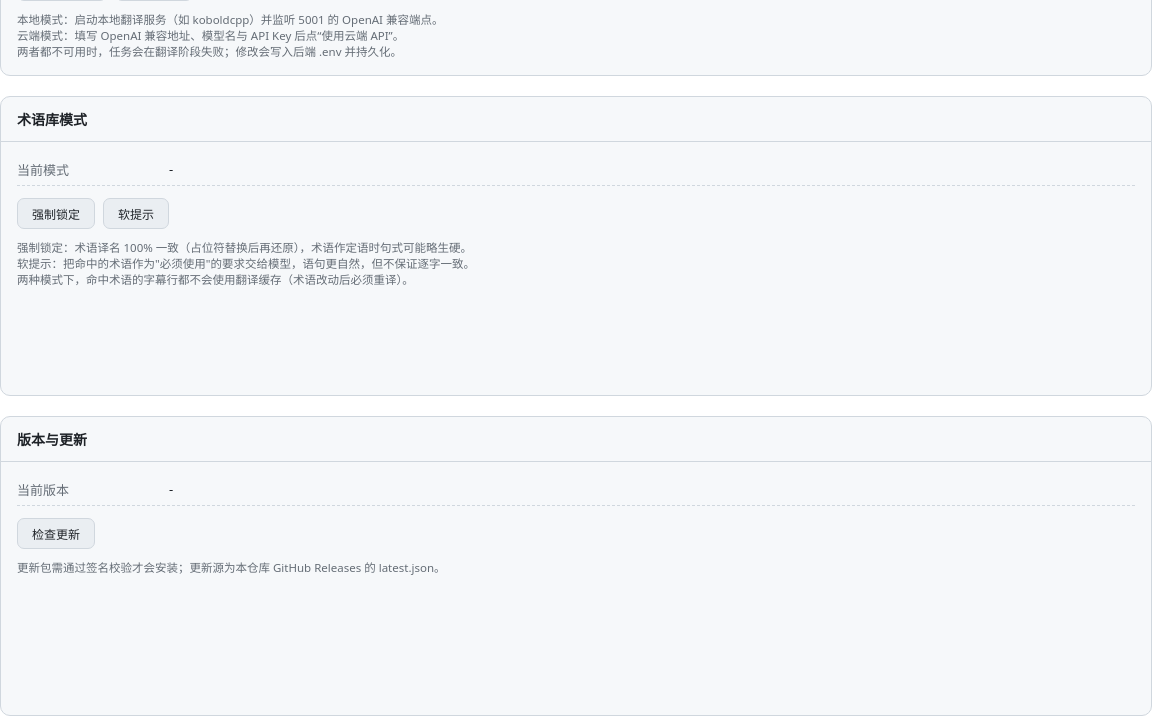
it: SettingsPage 版本与更新 › 有更新时给出新版本与安装按钮
This screenshot has width=1152, height=716.
(page scrolled)
Step 1. Click the button "检查更新" → (56, 534), box [17, 518, 95, 549]
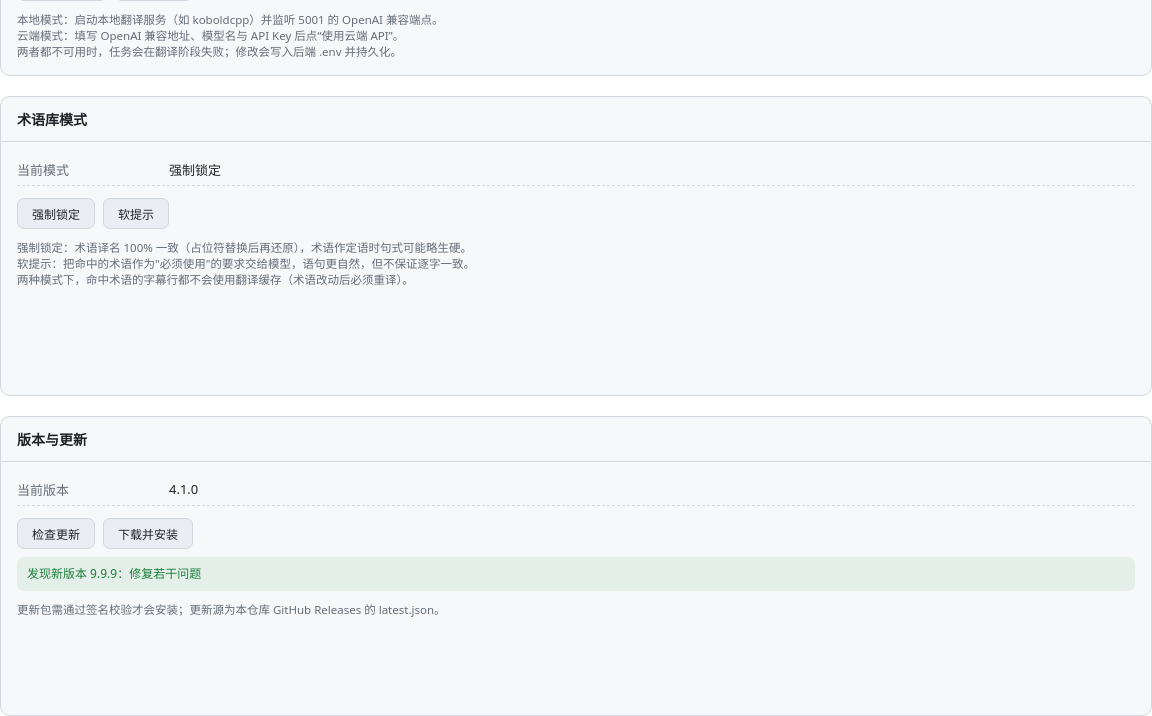
Expected: the text "发现新版本 9.9.9：修复若干问题" is shown, [17, 557, 1135, 591]
Expected: the button "下载并安装" is shown, [103, 518, 193, 549]
